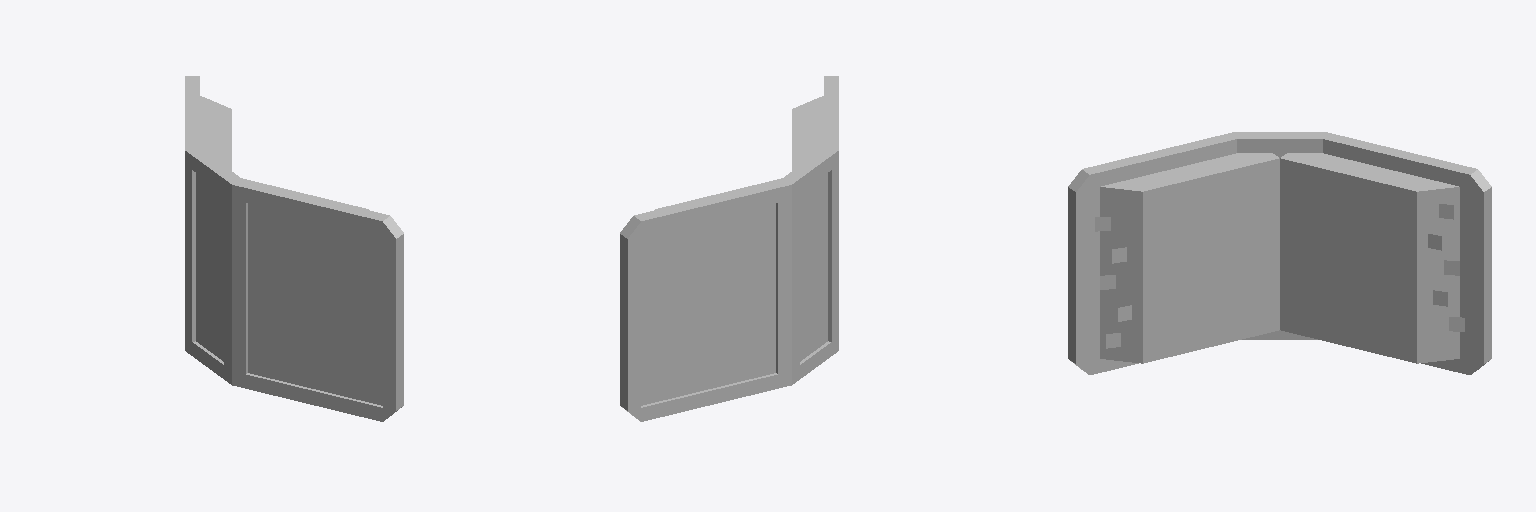
Rendered from book_alteration_open.obj.
3 views of the same model, side by side, from view 1: azimuth 30°, elevation 25°; view 2: azimuth 150°, elevation 25°; view 3: azimuth 270°, elevation 25° (orthographic).
Visible parts, largest first — view 1: COVER_RIGHT_OPEN_Cube.010, SPINE_OPEN_Cube.011, PAGES_LEFT_OPEN_Cube.013, COVER_LEFT_OPEN_Cube.012; view 2: COVER_LEFT_OPEN_Cube.012, SPINE_OPEN_Cube.011, PAGES_RIGHT_OPEN_Cube.009, COVER_RIGHT_OPEN_Cube.010; view 3: PAGES_RIGHT_OPEN_Cube.009, PAGES_LEFT_OPEN_Cube.013, COVER_LEFT_OPEN_Cube.012, COVER_RIGHT_OPEN_Cube.010, SPINE_OPEN_Cube.011.
Part boxes in pixels (x1,y1,x2,y2): COVER_RIGHT_OPEN_Cube.010: (232, 179, 403, 421); SPINE_OPEN_Cube.011: (185, 148, 242, 384); PAGES_LEFT_OPEN_Cube.013: (200, 96, 231, 170); COVER_LEFT_OPEN_Cube.012: (185, 76, 199, 149); COVER_LEFT_OPEN_Cube.012: (620, 179, 791, 421); SPINE_OPEN_Cube.011: (781, 148, 838, 384); PAGES_RIGHT_OPEN_Cube.009: (792, 96, 823, 170); COVER_RIGHT_OPEN_Cube.010: (824, 76, 838, 149); PAGES_RIGHT_OPEN_Cube.009: (1095, 153, 1279, 363); PAGES_LEFT_OPEN_Cube.013: (1280, 153, 1464, 363); COVER_LEFT_OPEN_Cube.012: (1323, 132, 1491, 374); COVER_RIGHT_OPEN_Cube.010: (1068, 132, 1236, 374); SPINE_OPEN_Cube.011: (1233, 132, 1326, 339).
Bounding box in the file's own units: 0.4359 × 0.875 × 1.67.